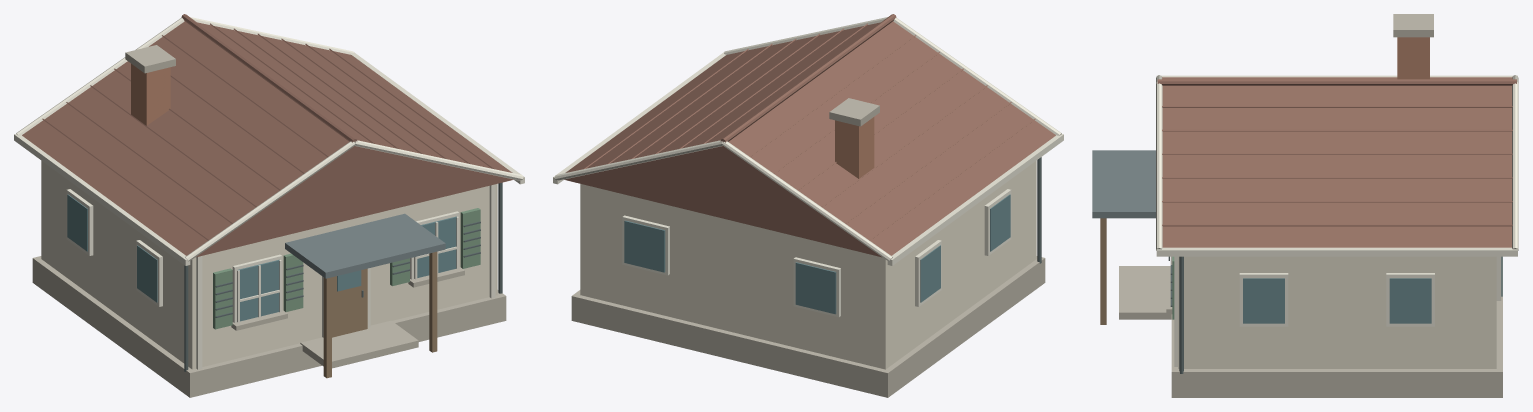
3 views of the same model, side by side, from view 1: azimuth 30°, elevation 25°; view 2: azimuth 150°, elevation 25°; view 3: azimuth 270°, elevation 25° (orthographic). The views are drawn at different scales.
Size of the model in its own units: 9.33 by 6.29 by 9.64.
